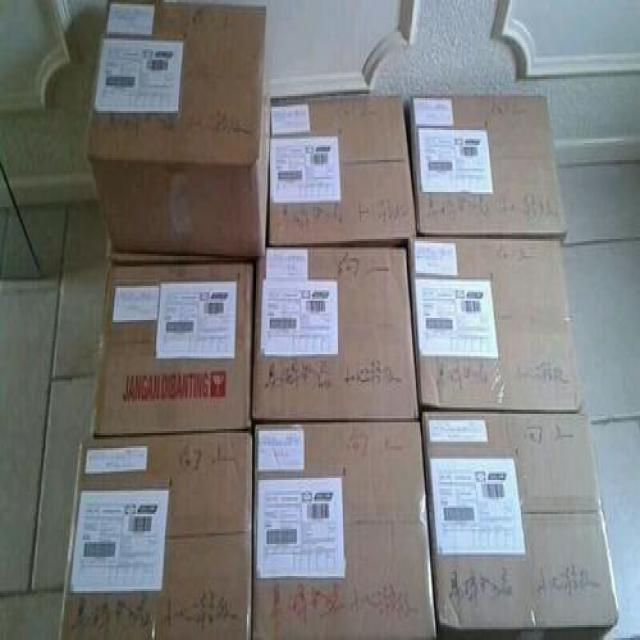box: (85, 0, 271, 260), (419, 401, 618, 640), (254, 419, 434, 640), (60, 433, 251, 640), (405, 233, 592, 419), (251, 237, 421, 423), (90, 260, 260, 436), (261, 92, 419, 248), (401, 92, 566, 241)
